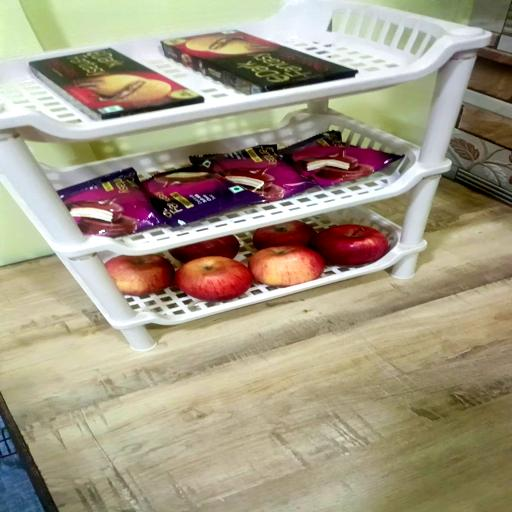Apple: (176, 257, 252, 302), (309, 225, 387, 266), (248, 246, 325, 287), (105, 255, 174, 296), (170, 235, 239, 263), (253, 221, 316, 250)
Choco Fills: (161, 30, 358, 94), (29, 48, 203, 119)
Choco Pie: (58, 168, 164, 238), (142, 168, 263, 228), (191, 145, 314, 202), (283, 132, 402, 187)
